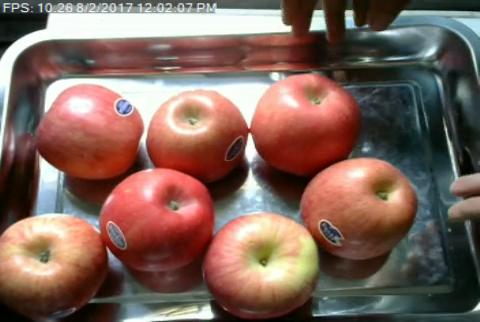apple: (300, 155, 419, 260), (206, 212, 320, 319), (100, 170, 214, 271), (0, 215, 106, 321), (251, 72, 361, 173), (33, 83, 144, 179), (146, 89, 248, 184)
